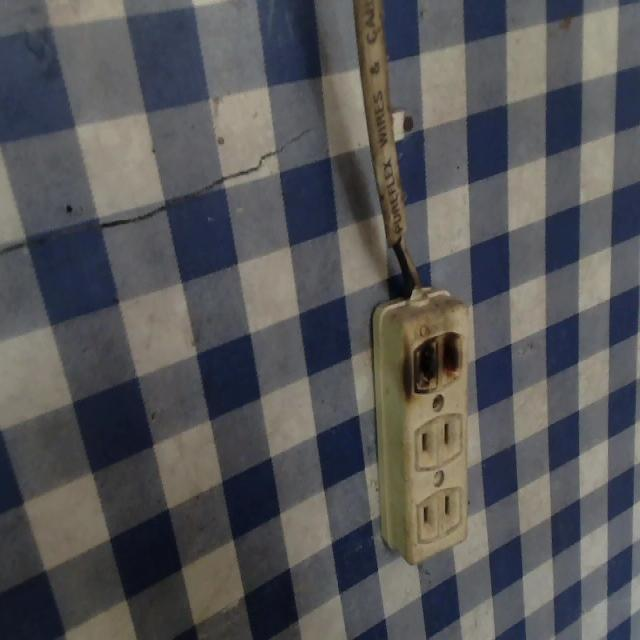-: (399, 320, 469, 397)
